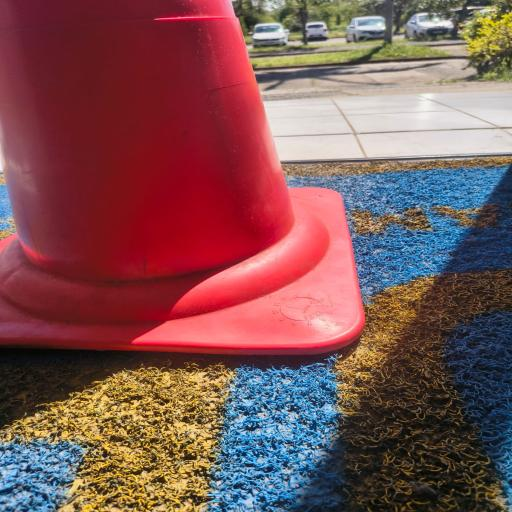cone: (0, 3, 351, 335)
